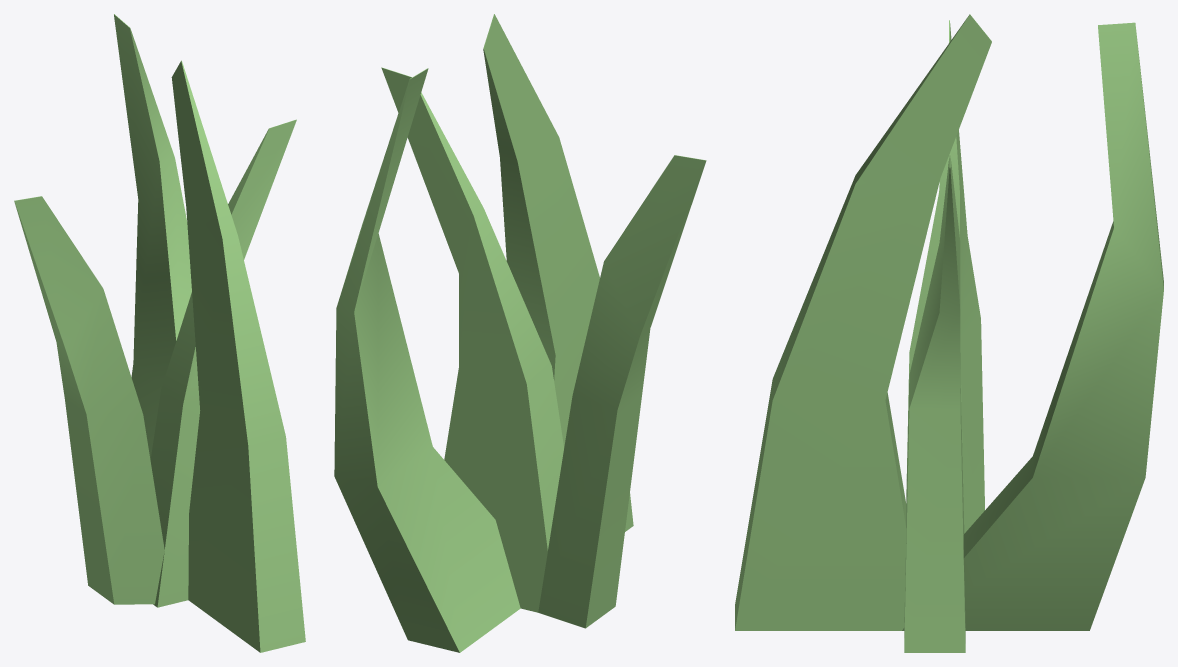
Rendered from grass8.fbx.
3 views of the same model, side by side, from view 1: azimuth 30°, elevation 25°; view 2: azimuth 150°, elevation 25°; view 3: azimuth 270°, elevation 25° (orthographic). The views are drawn at different scales.
Parts seen in each view (by area): view 1: pCube44, pCube79, pCube45, pCube80; view 2: pCube45, pCube80, pCube79, pCube44; view 3: pCube44, pCube45, pCube80, pCube79.
Part boxes in pixels (x1,y1,x2,y2): pCube44: [171, 60, 305, 652]; pCube79: [14, 196, 164, 604]; pCube45: [114, 14, 191, 459]; pCube80: [150, 119, 296, 607]; pCube45: [334, 68, 520, 652]; pCube80: [381, 67, 563, 612]; pCube79: [538, 155, 706, 628]; pCube44: [483, 14, 633, 531]; pCube44: [735, 14, 991, 630]; pCube45: [902, 22, 1163, 630]; pCube80: [904, 154, 965, 652]; pCube79: [906, 20, 984, 533].
Size of the model in its own units: 1.52 by 2.64 by 1.7.
